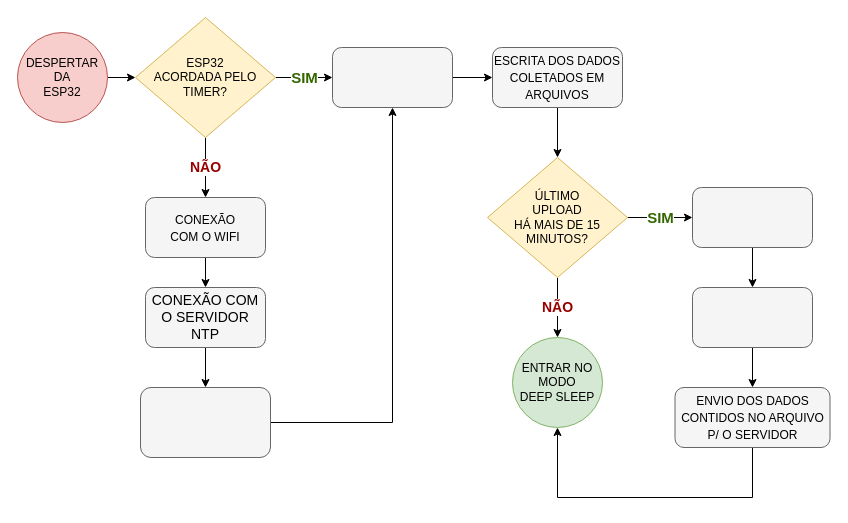
Some shapes in this 848 by 523 pixel diagram are drawn without their labels. Each missing label, with the centre of its shape:
COLETA DE DADOS DOS SENSORES: point 392,77
CONEXÃO COM O SERVIDOR MQTT: point 752,317
CONEXÃO DO WIFI: point 752,217
SINCRONIZAÇÃO DO RTC COM O HORÁRIO DO SERVIDOR NTP: point 205,422
